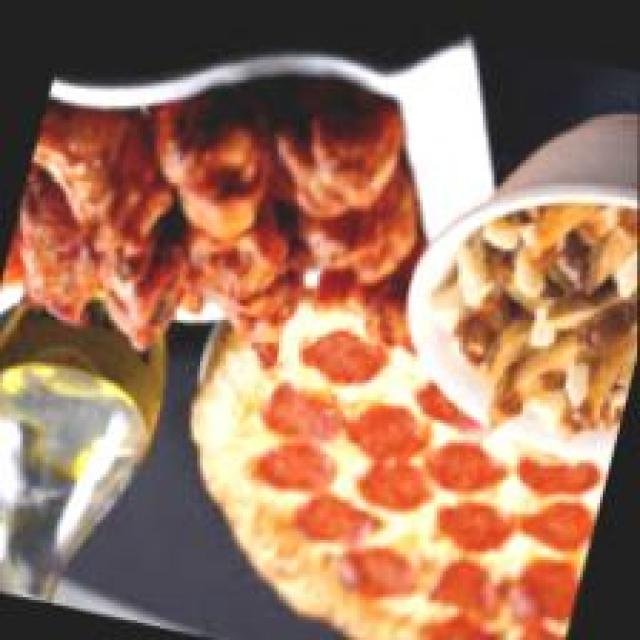Chicken Wings: (0, 18, 446, 416)
